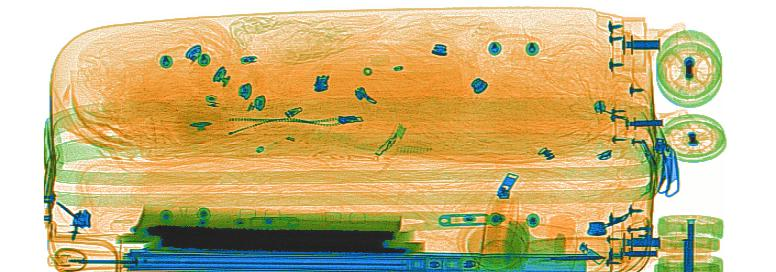seal: (478, 192, 578, 268), (500, 217, 566, 270)
